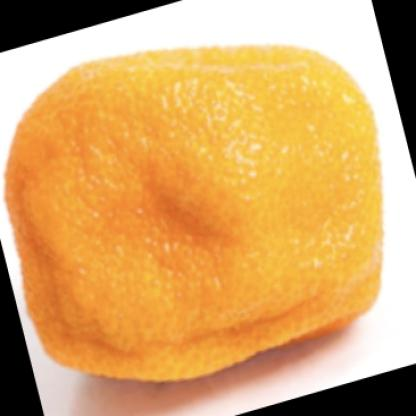rotten: (1, 48, 380, 380)
